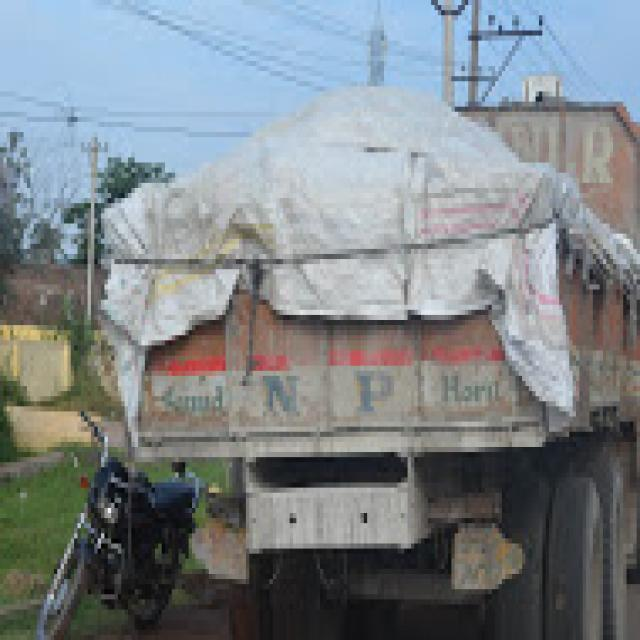truck_back: (97, 91, 640, 635)
two_wheeler_front: (28, 403, 210, 635)
